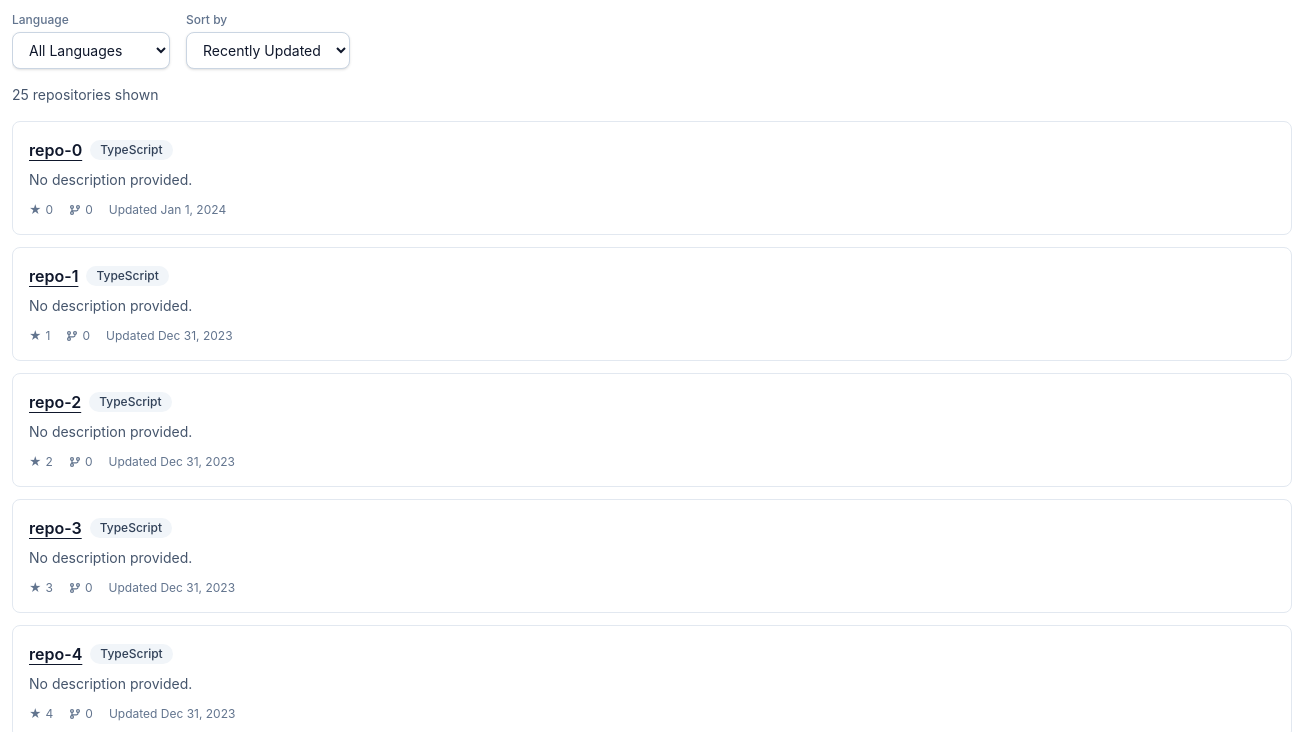
Test: RepositoryExplorer › filtering › shows an empty state when the chosen language has no repository
This screenshot has width=1292, height=732.
Select "Ruby" in the dropdown labelled "Language": (91, 50) [12,32,170,69]
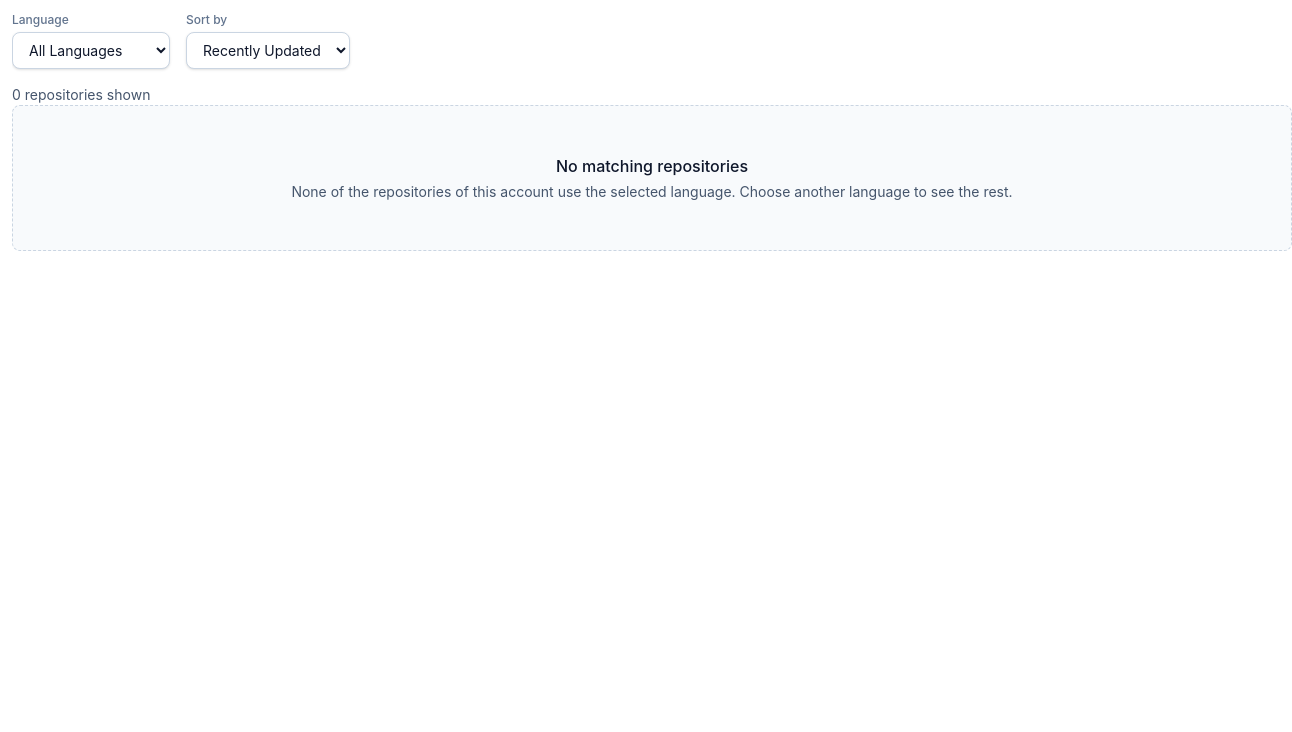
expect the text "No matching repositories" is shown: met, box [556,156,748,176]
expect no headings are shown: met
